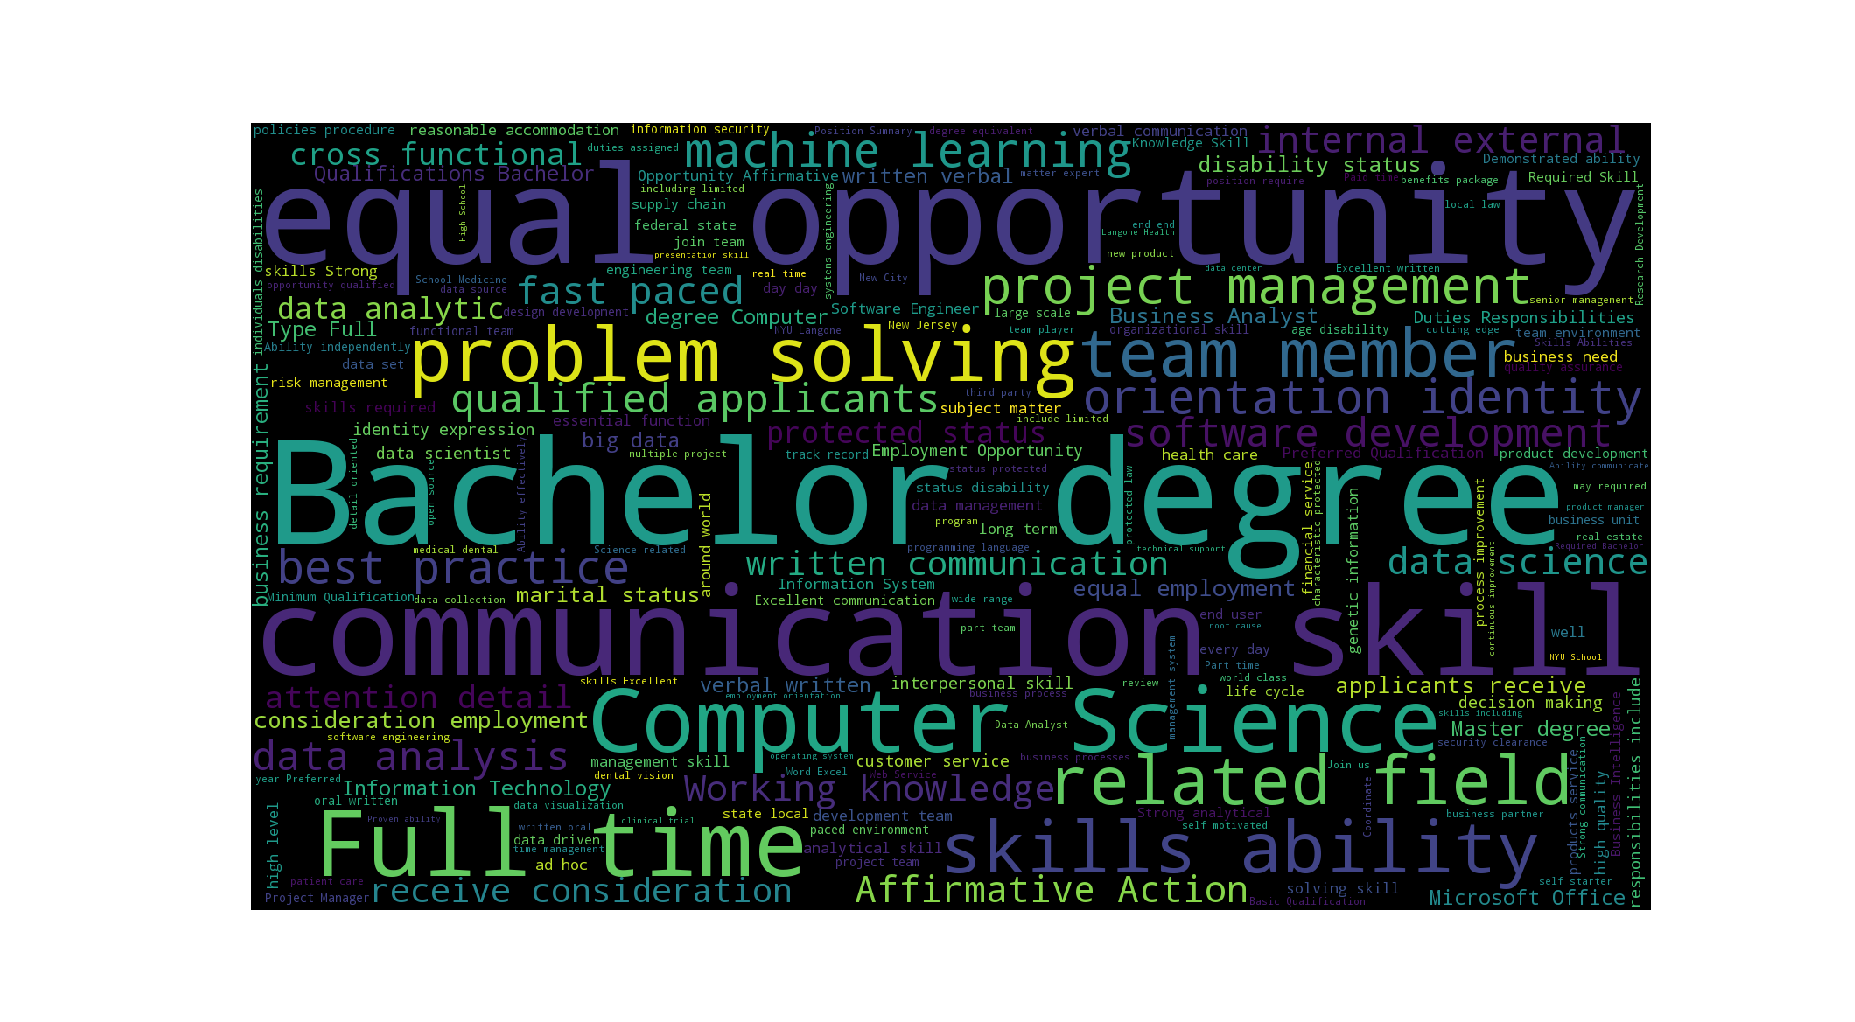

What the dashboard file says about the page in this screenshot:
{"tool":"tableau","page":{"name":"D4. Word Cloud","canvas":[1584,750],"ordinal":4},"visuals":[{"type":"blank","box":[8,8,281,734]},{"type":"image","param":"Image/Figure_6-1.png","box":[289,8,1287,734]},{"type":"text","box":[35,36,229,686]}]}

Visuals, with their boxes on the page's 1584x750 design canvas (x1, y1, x2, y2). These are canvas units, not pixel positions in the 1855x1022 screenshot, which may show the page scaled, cropped or inside an application window:
blank: (8, 8, 289, 742)
image: (289, 8, 1576, 742)
text: (35, 36, 264, 722)
